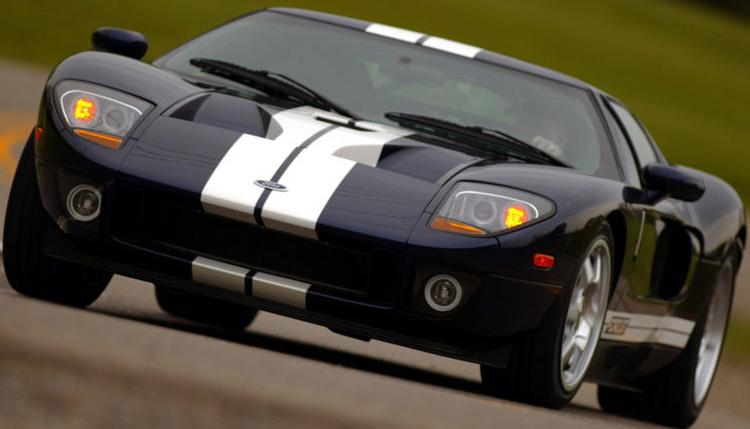front_view: (54, 73, 565, 413)
headlight: (415, 147, 564, 254)
side_glass: (589, 93, 695, 195)
